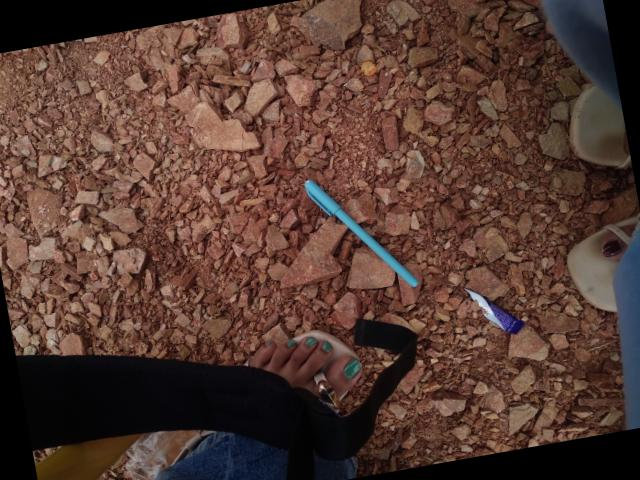PEN: (181, 302, 334, 441)
